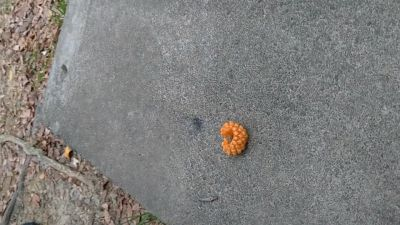eggs: (219, 120, 251, 158)
